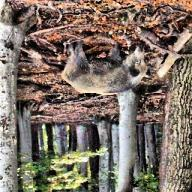boar: (60, 33, 150, 96)
